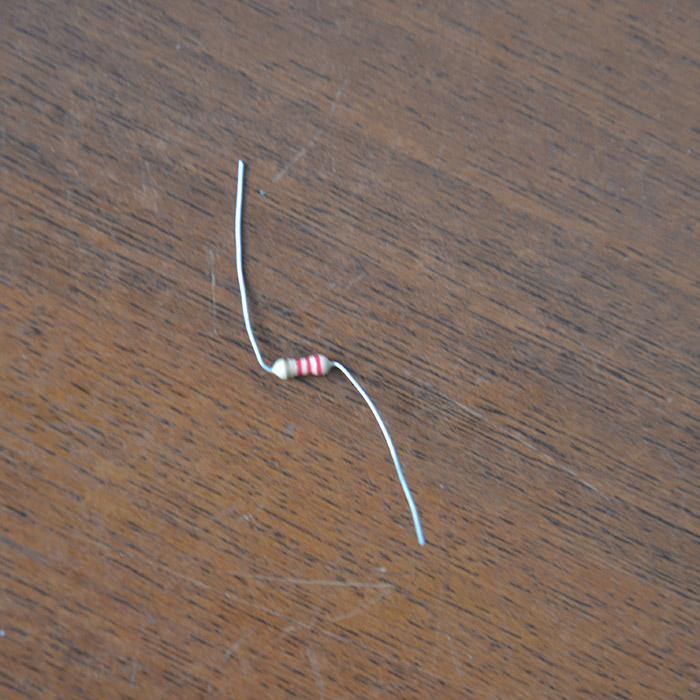resistor: (269, 352, 331, 380)
